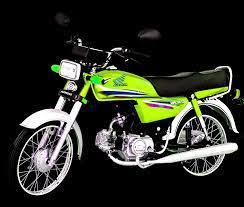bike: (9, 33, 244, 197)
